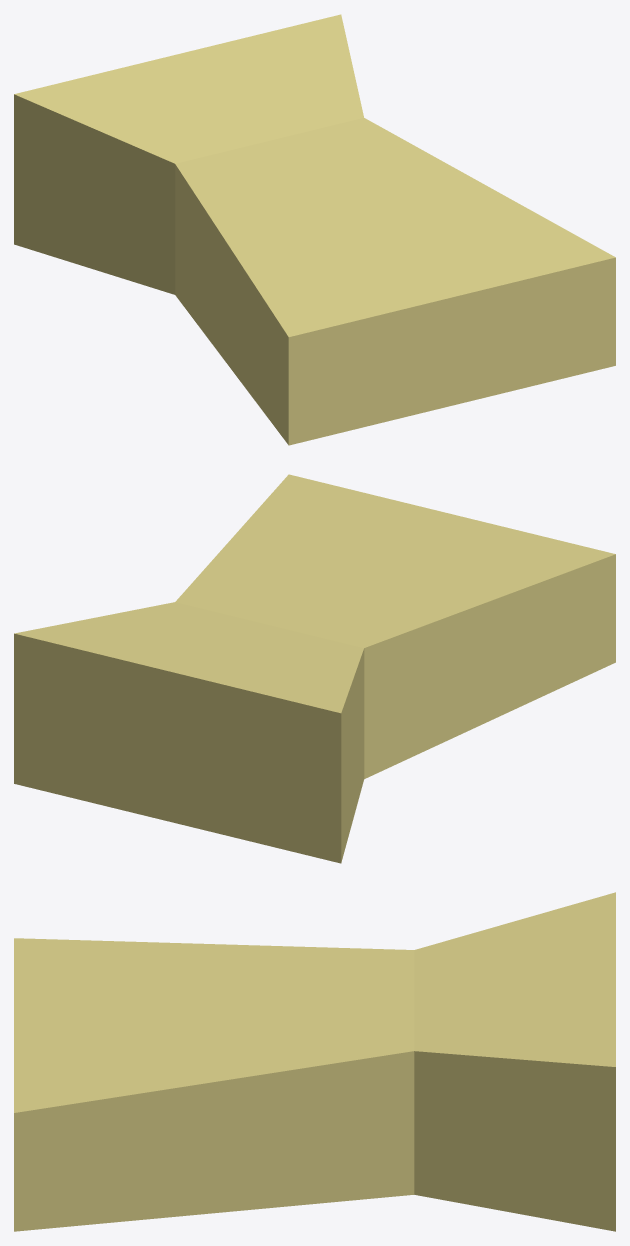
The model's file is WheatSheave.fbx.
3 views of the same model, one above another, from view 1: azimuth 30°, elevation 25°; view 2: azimuth 150°, elevation 25°; view 3: azimuth 270°, elevation 25° (orthographic). The views are drawn at different scales.
Visible parts, largest first — view 1: WheatSheaf; view 2: WheatSheaf; view 3: WheatSheaf.
Part boxes in pixels (left/top/right/bottom): WheatSheaf: left=14, top=14, right=615, bottom=445; WheatSheaf: left=14, top=474, right=615, bottom=863; WheatSheaf: left=14, top=892, right=615, bottom=1231.
Bounding box in the file's own units: 88 × 38.61 × 128.
